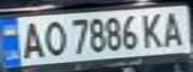6: (121, 12, 142, 51)
7: (66, 16, 90, 55)
8: (87, 15, 109, 53), (103, 14, 124, 52)
A: (15, 19, 48, 61), (157, 8, 190, 47)
K: (139, 10, 169, 49)
O: (36, 18, 69, 57)
